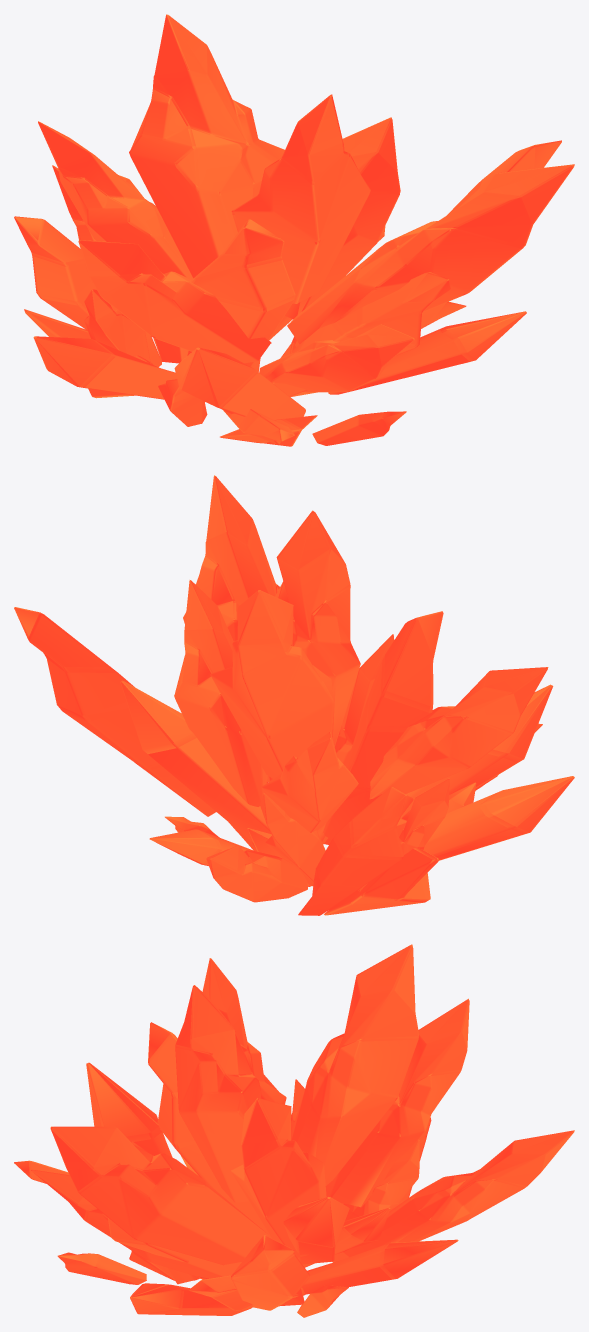
Rendered from 1-shuijing.FBX.
The picture shows the model from 3 angles, top to bottom: view 1: azimuth 30°, elevation 25°; view 2: azimuth 150°, elevation 25°; view 3: azimuth 270°, elevation 25°; orthographic projection.
Visible parts, largest first — view 1: Object246; view 2: Object246; view 3: Object246.
Boxes of the visible parts, left/top/right/bottom form: Object246: left=14, top=14, right=574, bottom=446; Object246: left=14, top=475, right=574, bottom=915; Object246: left=14, top=944, right=574, bottom=1317.
Size of the model in its own units: 1.28 by 0.7672 by 1.14.
